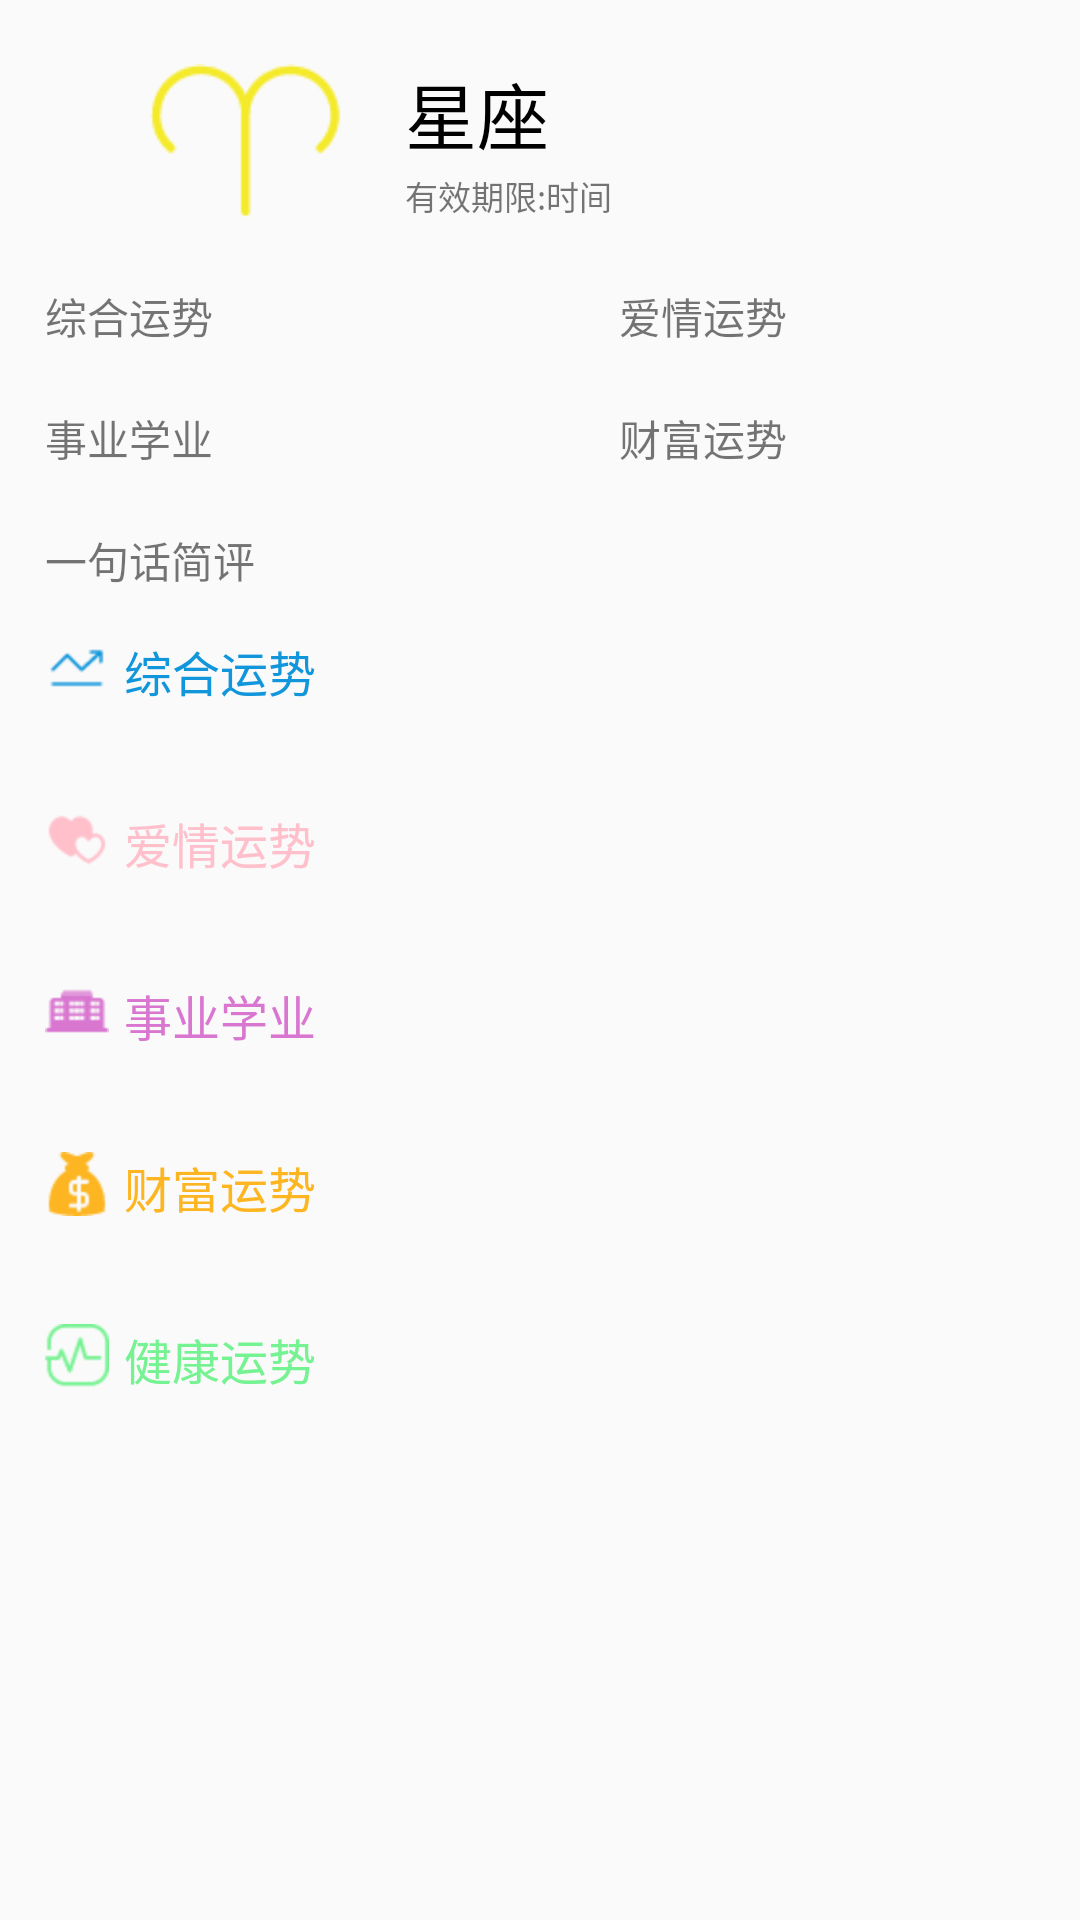

Named icons in this screenshot (1080*1920) and their bounding boxes, (x1, y1, x2, y2):
baiyang: (150, 64, 340, 216)
